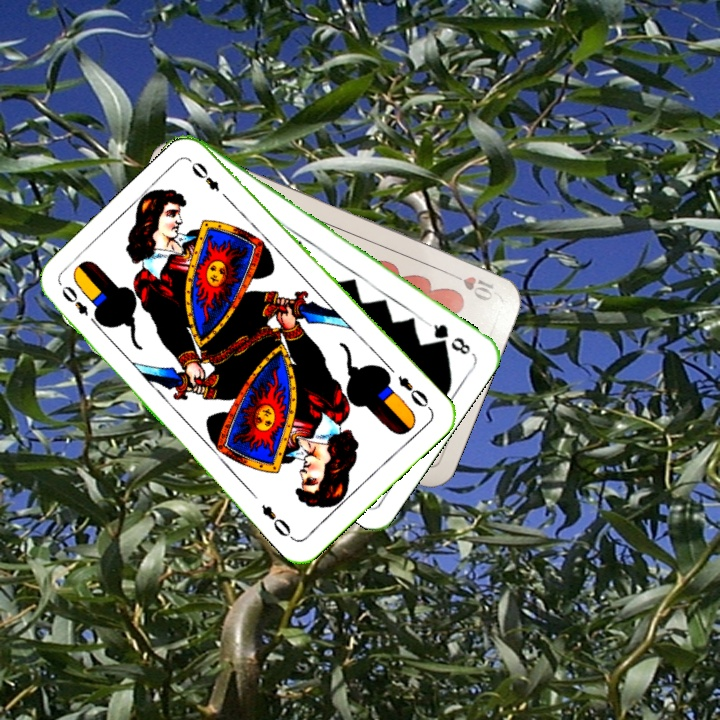EO: (57, 282, 102, 329), (393, 372, 434, 413)
G8: (424, 318, 474, 358)
H10: (443, 267, 497, 304)
